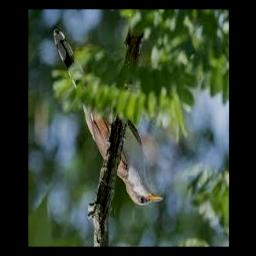Cuckoo: (54, 29, 164, 206)
